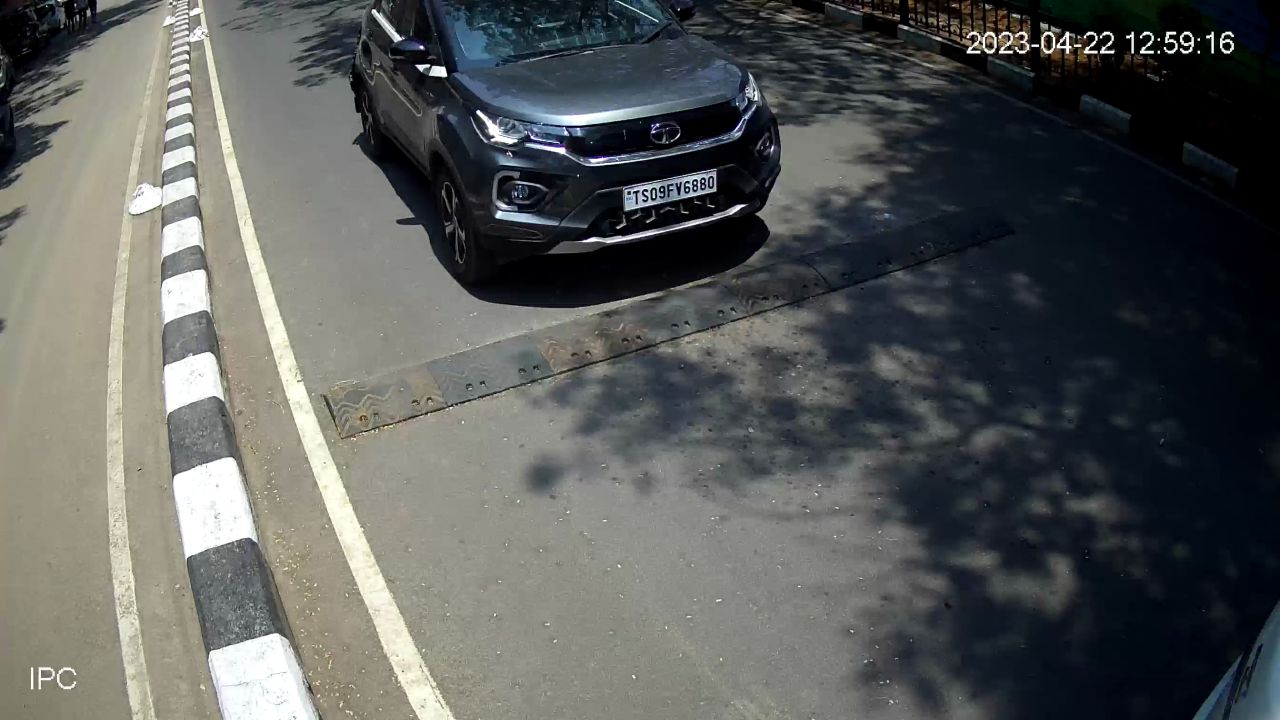license_plate: (615, 165, 728, 220)
